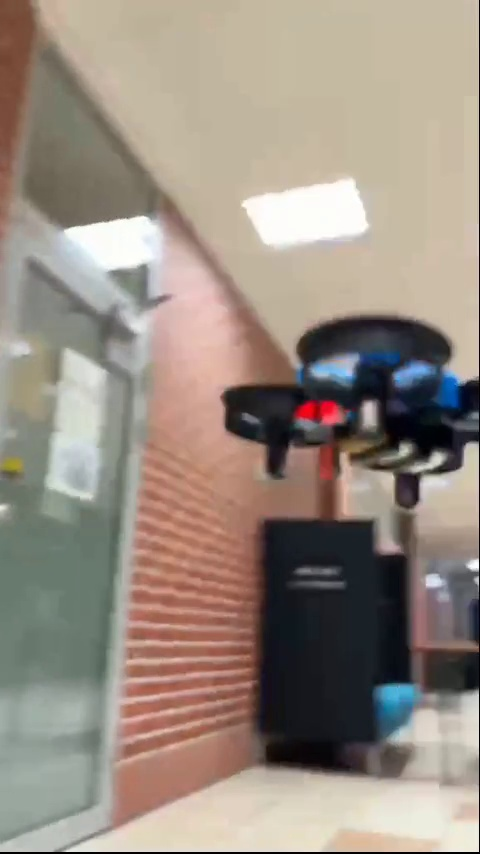drone: (214, 317, 480, 515)
